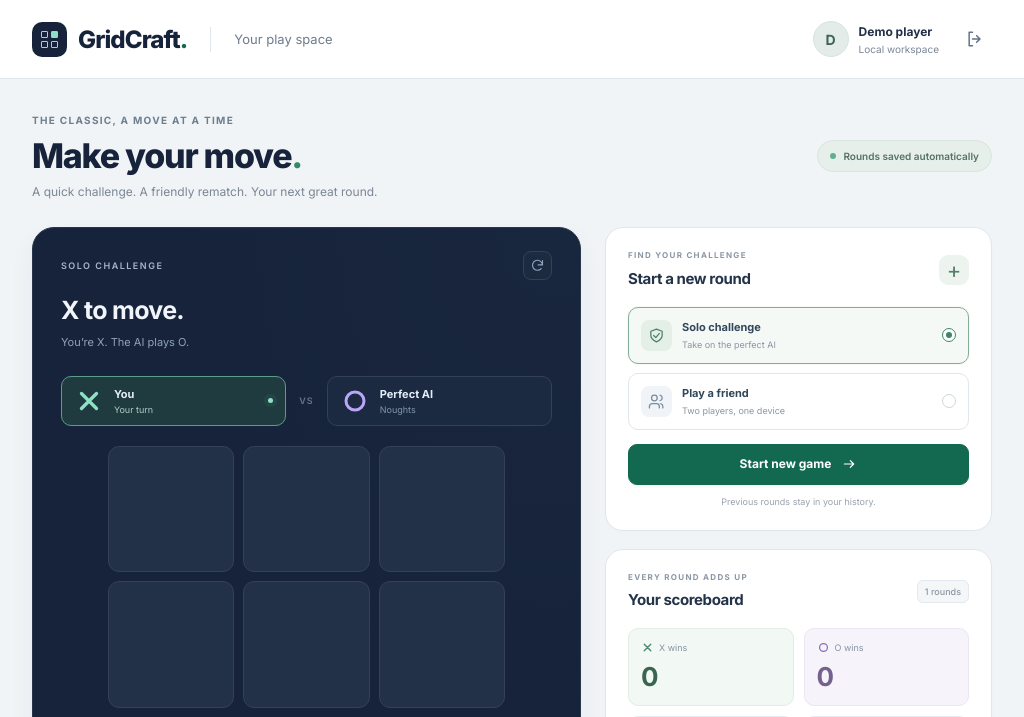
Test: sign-out returns to the form and keeps only the harmless saved game identifier
Expected: the heading "Make your move." is shown, [32,135,302,176]
Expected: the button "Start new game" is enabled, [628,444,969,485]
Click the button named "Sign out".
click(974, 39)  # box [957,22,992,56]
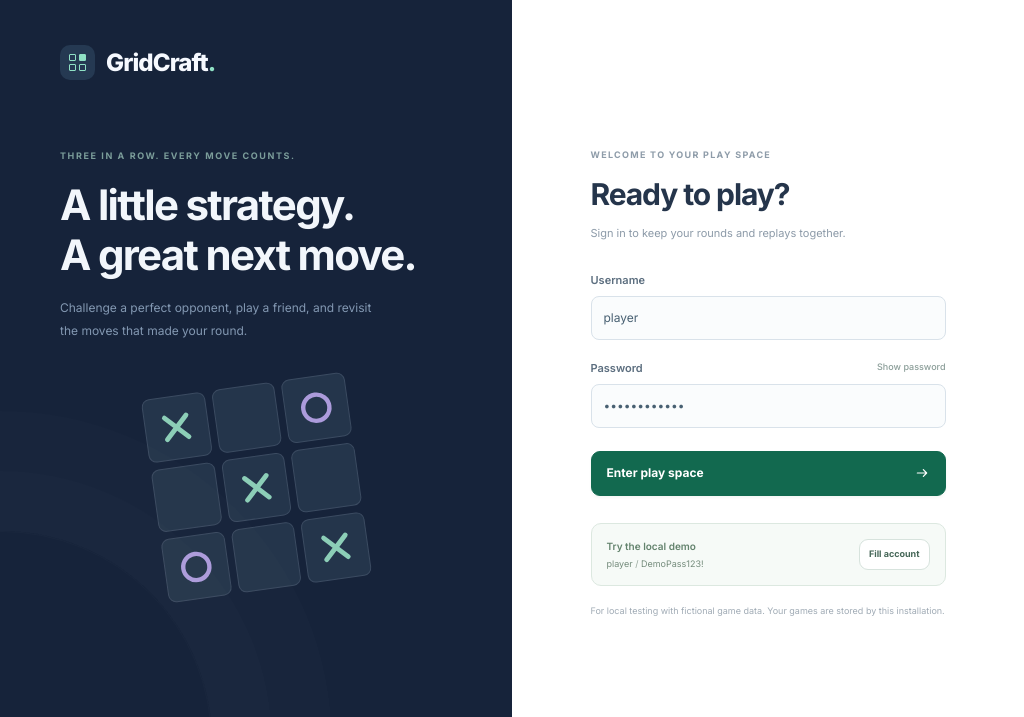
Expected: the heading "Ready to play?" is shown, [590,176,789,212]
